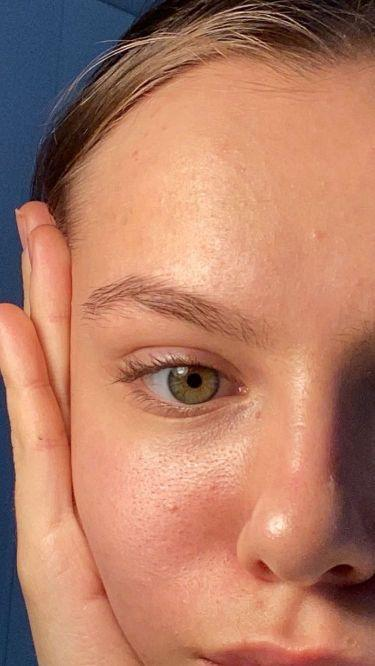Oily-Skin: (138, 110, 350, 277), (93, 417, 235, 625), (265, 357, 342, 580)
